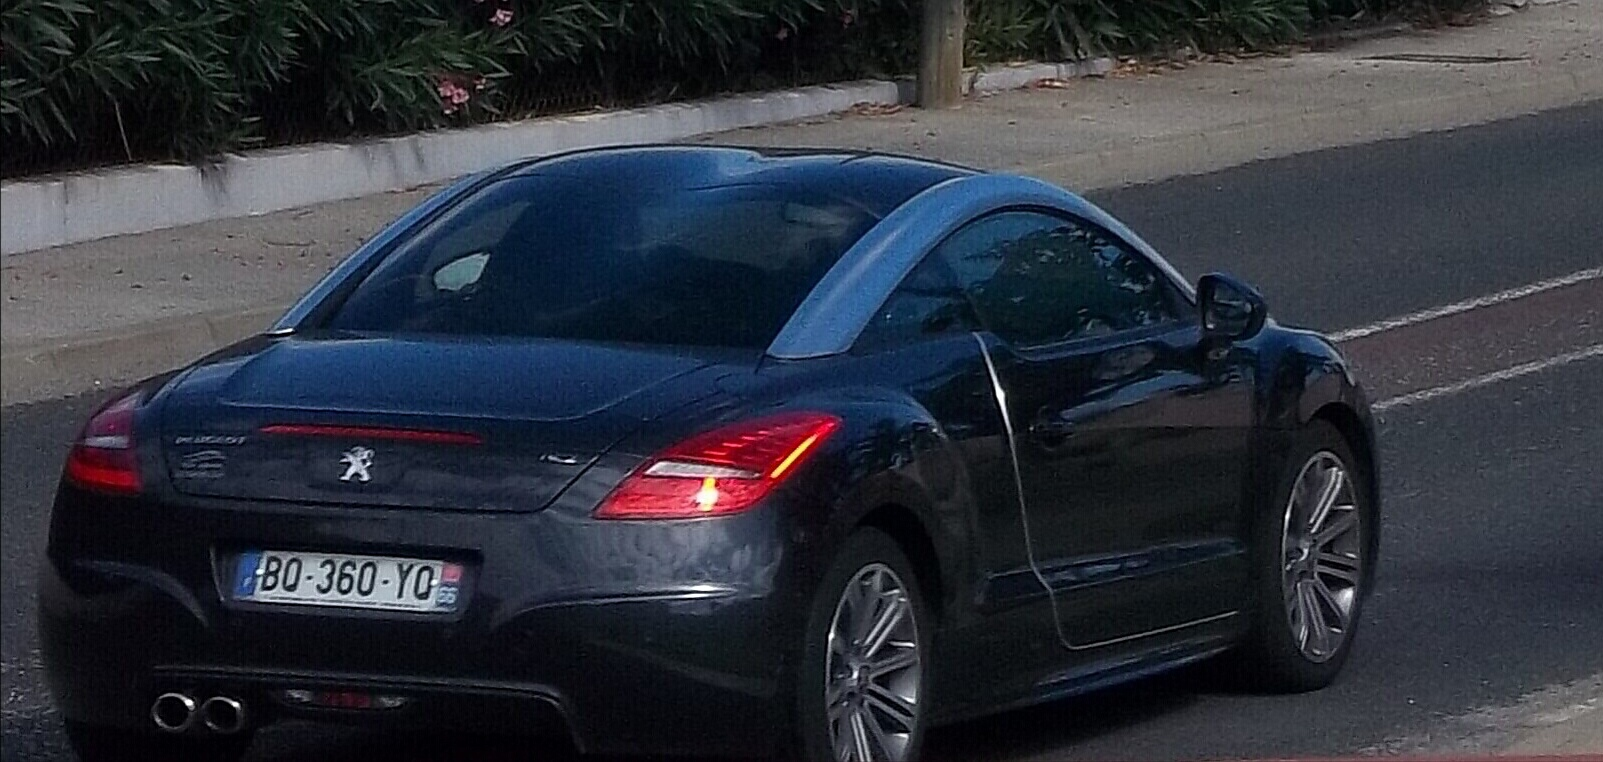licence plate: (226, 542, 468, 615)
